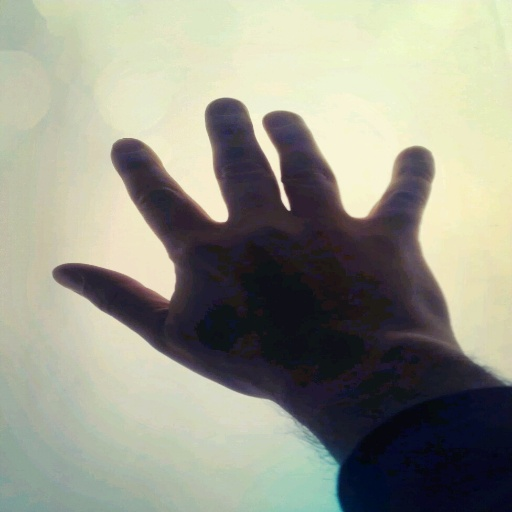hand: (44, 94, 461, 400)
